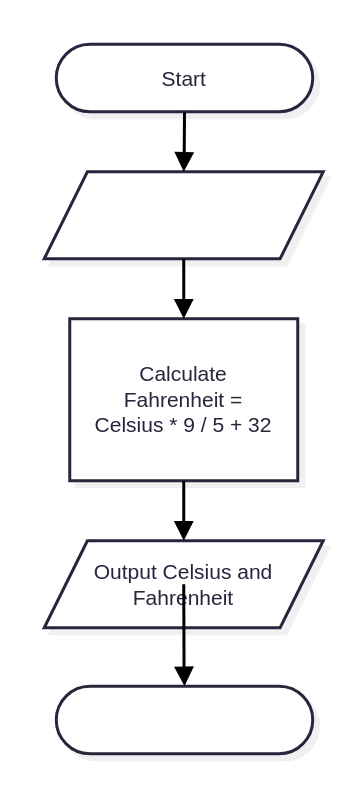
This 356x786 diagram has some shape labels left out. The shapes that lost their labels are listed below. From the top down, each one's centre as x and y in pixels, then its label:
the point at 186,218: Input Celsius temperature
the point at 187,722: End
